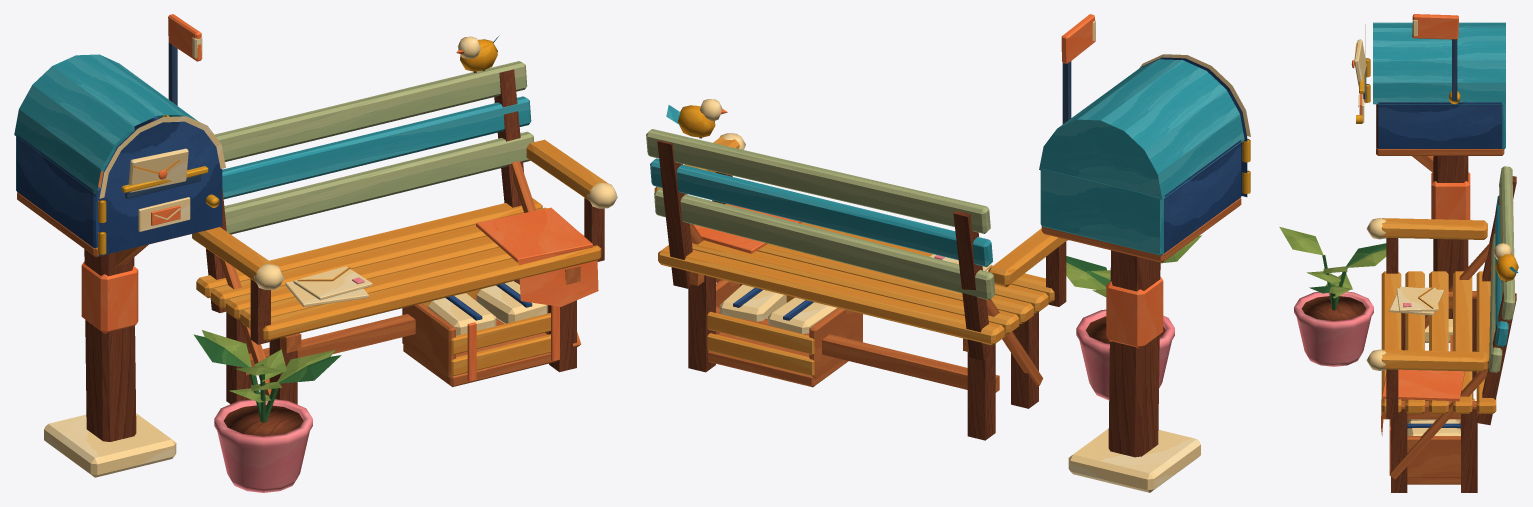
Rendered from ghibli_poster_mailbox_bench_editable_parts.glb.
The picture shows the model from 3 angles, left to right: view 1: azimuth 30°, elevation 25°; view 2: azimuth 150°, elevation 25°; view 3: azimuth 270°, elevation 25°; orthographic projection. The views are drawn at different scales.
Parts seen in each view (by area): view 1: 016 Broad painted bench back slat 1, 017 Broad painted bench back slat 2, 018 Broad painted bench back slat 3, 055 Operable mailbox broad front door, 007 Usable bench seat slat 1, 039 Mailbox substantial timber post, 089 Pink ground herb planter, 038 Mailbox broad stone-colored shoe, 044 Mailbox left side shell, 011 Usable bench seat slat 5, 087 Coral seat corner cloth, 010 Usable bench seat slat 4 (+36 smaller); view 2: 018 Broad painted bench back slat 3, 016 Broad painted bench back slat 1, 017 Broad painted bench back slat 2, 011 Usable bench seat slat 5, 046 Mailbox rear wall, 039 Mailbox substantial timber post, 056 Mailbox rear curved cap, 038 Mailbox broad stone-colored shoe, 044 Mailbox left side shell, 010 Usable bench seat slat 4, 006 Bench long low stretcher, 040 Mailbox painted post wrap (+28 smaller); view 3: 045 Mailbox right side shell, 089 Pink ground herb planter, 048 Curved mailbox roof strip 2, 047 Curved mailbox roof strip 1, 049 Curved mailbox roof strip 3, 039 Mailbox substantial timber post, 023 Bench rounded armrest 2, 020 Bench rounded armrest 1, 087 Coral seat corner cloth, 027 Postal crate end board 2, 010 Usable bench seat slat 4, 007 Usable bench seat slat 1 (+34 smaller).
Boxes of the visible parts, x1,y1,x2,y2 form: 016 Broad painted bench back slat 1: [192, 131, 534, 240]; 017 Broad painted bench back slat 2: [222, 96, 531, 199]; 018 Broad painted bench back slat 3: [215, 61, 527, 161]; 055 Operable mailbox broad front door: [99, 117, 222, 256]; 007 Usable bench seat slat 1: [262, 245, 601, 340]; 039 Mailbox substantial timber post: [84, 249, 136, 441]; 089 Pink ground herb planter: [214, 399, 312, 492]; 038 Mailbox broad stone-colored shoe: [44, 413, 176, 477]; 044 Mailbox left side shell: [17, 134, 100, 248]; 011 Usable bench seat slat 5: [196, 198, 542, 298]; 087 Coral seat corner cloth: [476, 207, 592, 262]; 010 Usable bench seat slat 4: [211, 207, 546, 308]; 018 Broad painted bench back slat 3: [646, 129, 990, 233]; 016 Broad painted bench back slat 1: [654, 188, 995, 300]; 017 Broad painted bench back slat 2: [650, 158, 992, 266]; 011 Usable bench seat slat 5: [658, 245, 1004, 345]; 046 Mailbox rear wall: [1040, 169, 1163, 255]; 039 Mailbox substantial timber post: [1108, 250, 1160, 457]; 056 Mailbox rear curved cap: [1039, 119, 1162, 199]; 038 Mailbox broad stone-colored shoe: [1068, 428, 1200, 492]; 044 Mailbox left side shell: [1164, 140, 1241, 253]; 010 Usable bench seat slat 4: [692, 240, 1019, 334]; 006 Bench long low stretcher: [716, 306, 999, 392]; 040 Mailbox painted post wrap: [1106, 277, 1163, 348]; 045 Mailbox right side shell: [1377, 102, 1502, 148]; 089 Pink ground herb planter: [1294, 291, 1373, 366]; 048 Curved mailbox roof strip 2: [1373, 60, 1505, 82]; 047 Curved mailbox roof strip 1: [1373, 82, 1505, 104]; 049 Curved mailbox roof strip 3: [1373, 41, 1505, 60]; 039 Mailbox substantial timber post: [1433, 156, 1468, 318]; 023 Bench rounded armrest 2: [1381, 349, 1487, 371]; 020 Bench rounded armrest 1: [1381, 218, 1487, 239]; 087 Coral seat corner cloth: [1382, 369, 1464, 401]; 027 Postal crate end board 2: [1407, 436, 1460, 477]; 010 Usable bench seat slat 4: [1453, 271, 1472, 413]; 007 Usable bench seat slat 1: [1381, 271, 1401, 413].
Size of the model in its own units: 2.52 by 1.92 by 1.23.
Materials: 3 (3 with a texture image).
